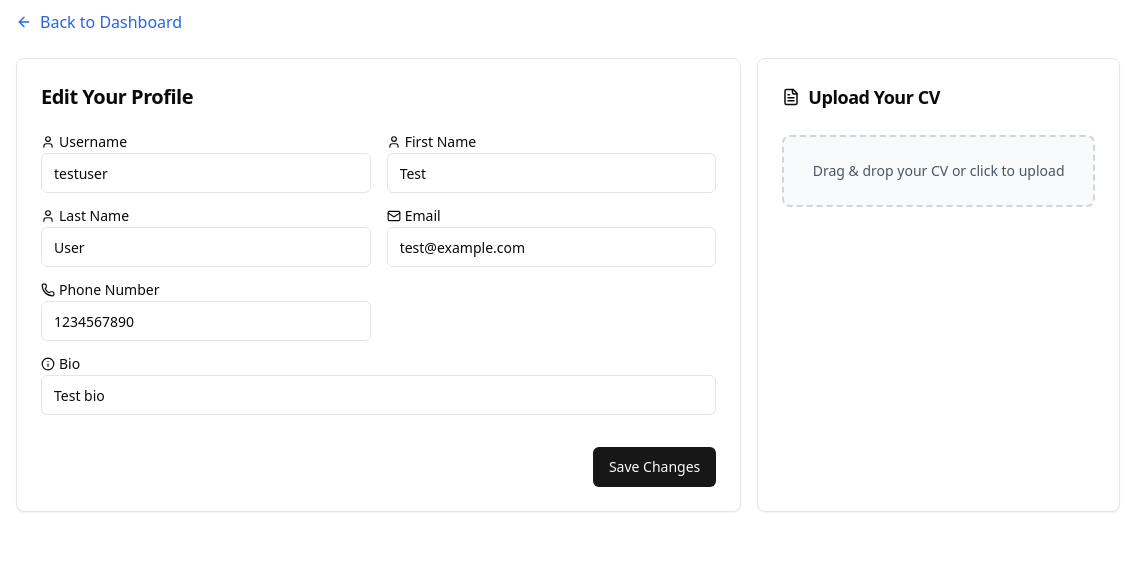
Test: EditProfile Component › submits form and shows success message
Check: the field labelled "Username" is shown, box x1=41 y1=153 x2=371 y2=193
// Submit the form
Click the button "Save Changes".
click(655, 467)  # box x1=593 y1=447 x2=716 y2=487
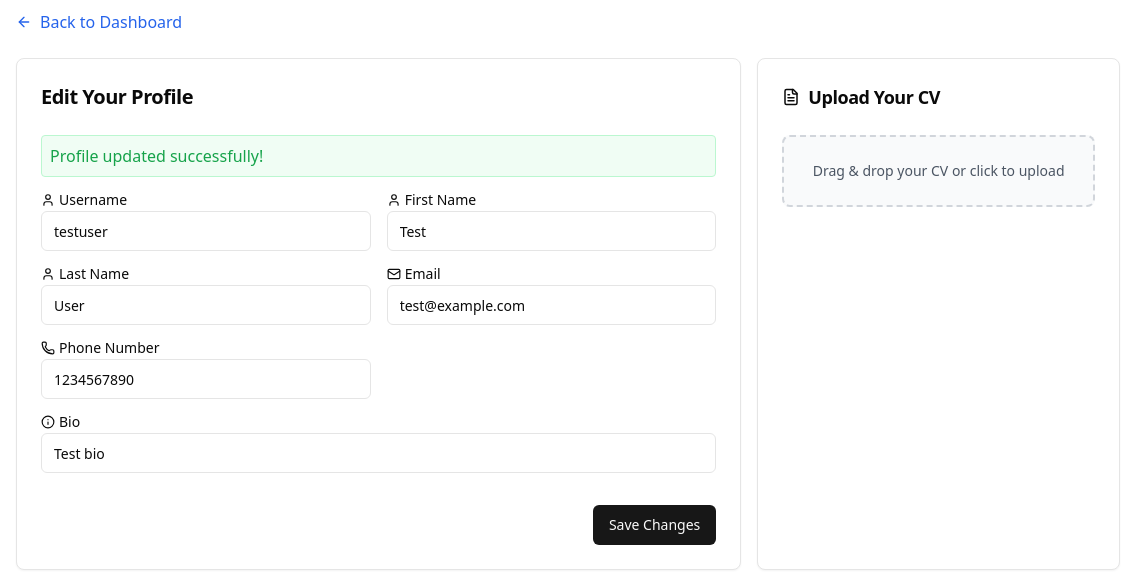
Check: the text "Profile updated successfully!" is shown, box x1=41 y1=135 x2=716 y2=177
